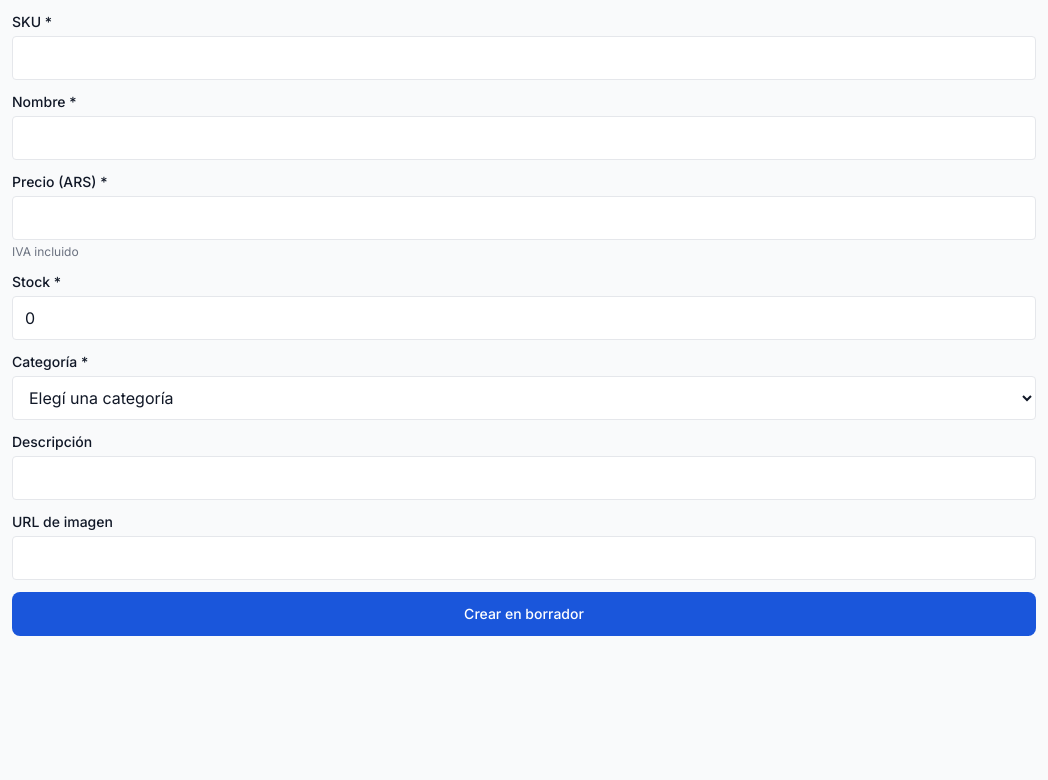
ProductForm (AC-2/AC-3/AC-5/AC-9) › 422 por campo (AC-5): mapea errors[] a los campos, preserva input
Type "REF-001" into the field labelled "SKU *" at coordinates (524, 58), box [12,36,1036,80]
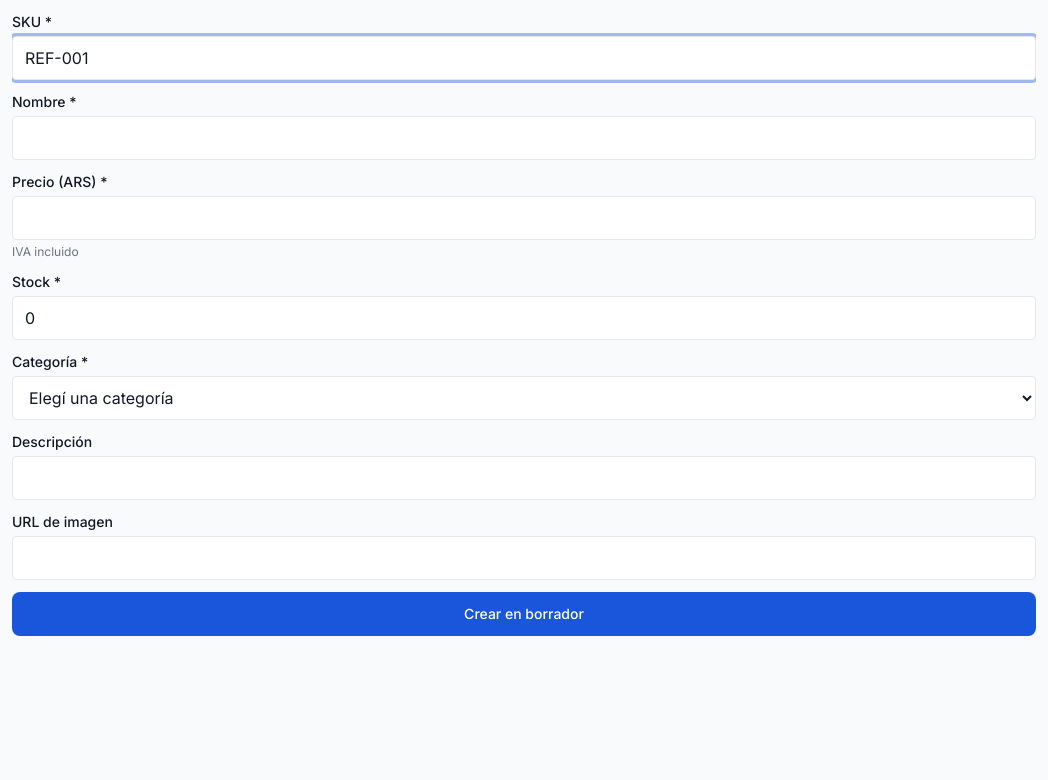
Type "Heladera" into the field labelled "Nombre *" at coordinates (524, 138), box [12,116,1036,160]
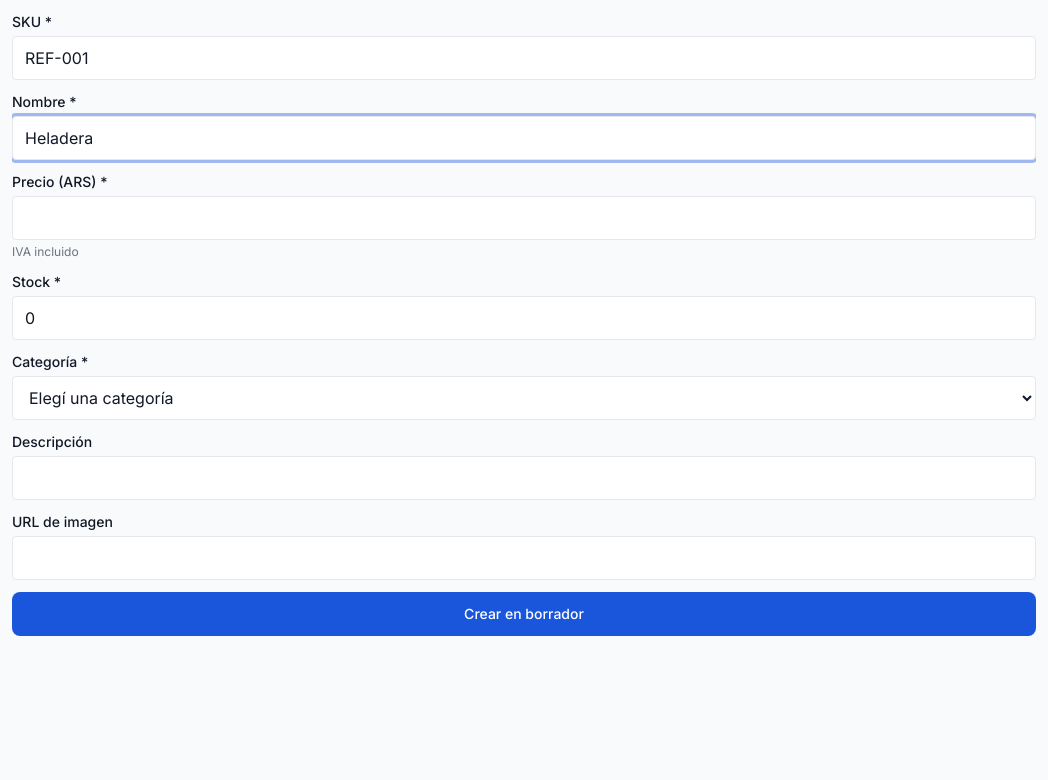
Type "1000" into the number field labelled "Precio (ARS) *" at coordinates (524, 218), box [12,196,1036,240]
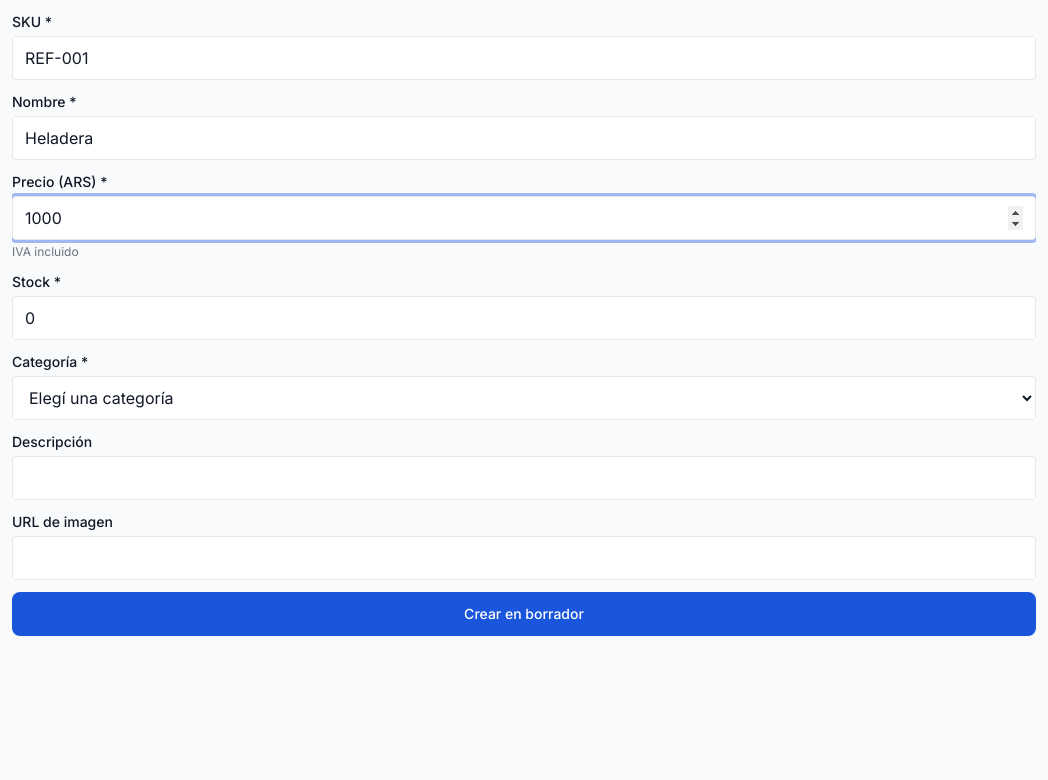
Replace the text in the number field labelled "Stock *" with "5" at coordinates (524, 318), box [12,296,1036,340]
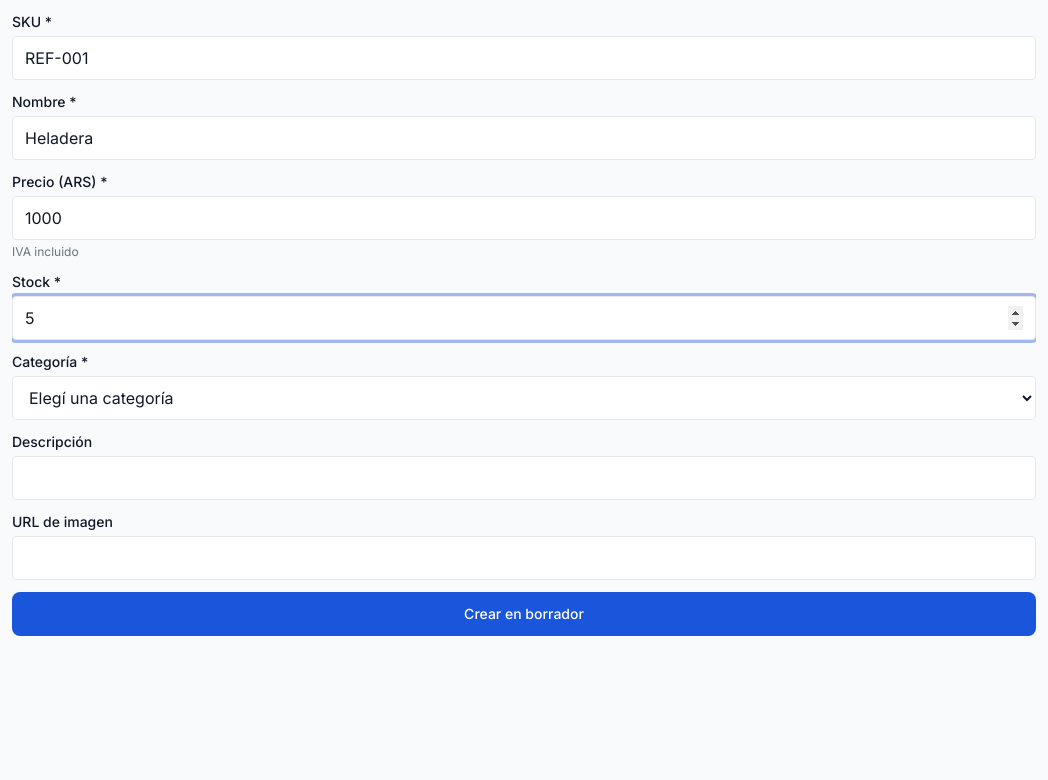
Select "Refrigeración" in the dropdown labelled "Categoría *" at coordinates (524, 398), box [12,376,1036,420]
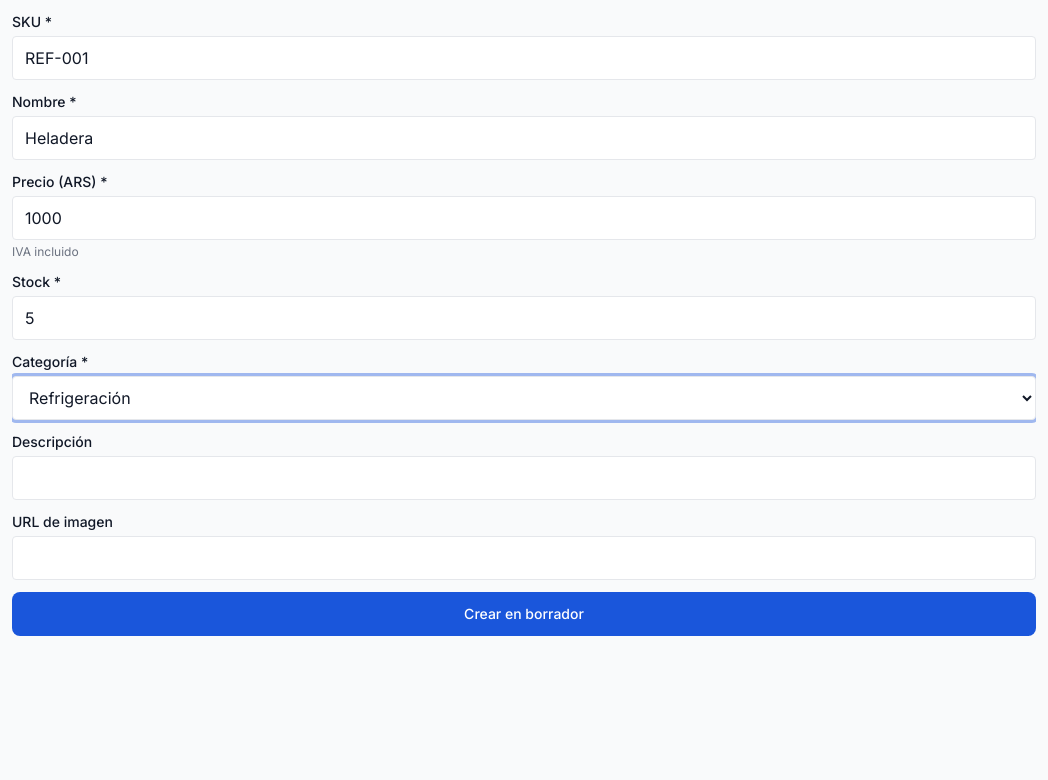
Click the button "Crear en borrador" at coordinates (524, 614), box [12,592,1036,636]
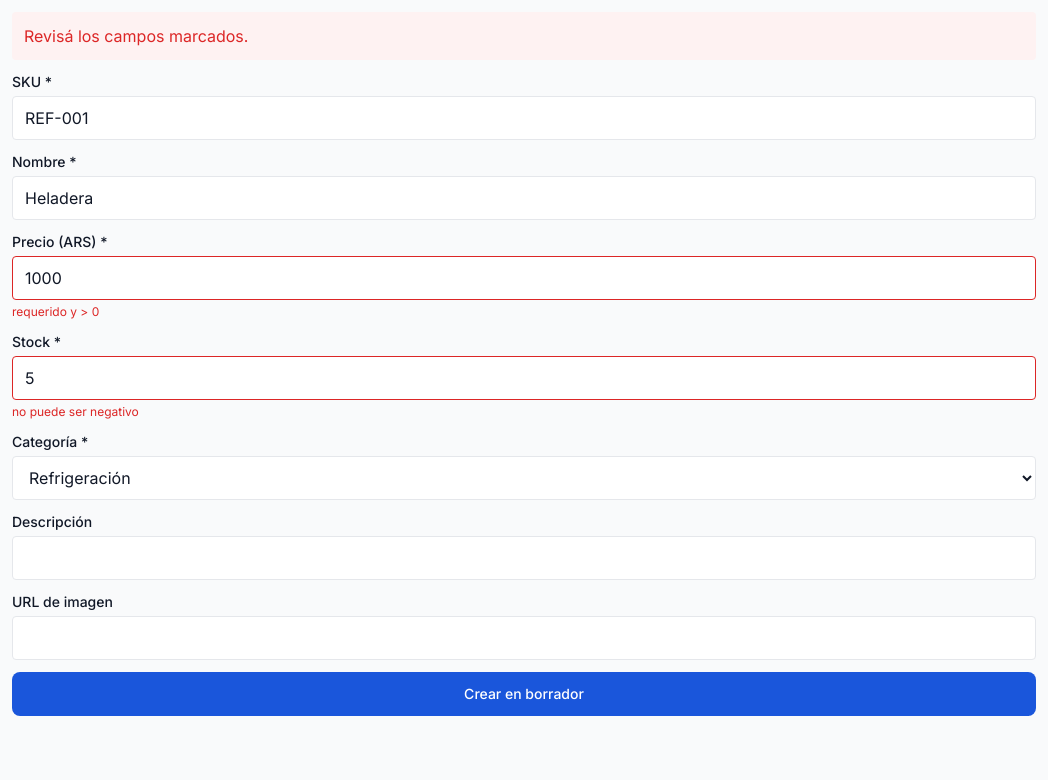
Expected: the text "requerido y > 0" is shown, [12,304,99,319]
Expected: the text "no puede ser negativo" is shown, [12,404,139,419]
